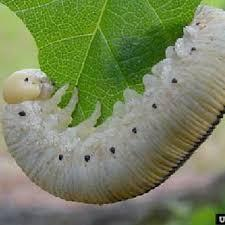insect: (0, 3, 225, 207)
